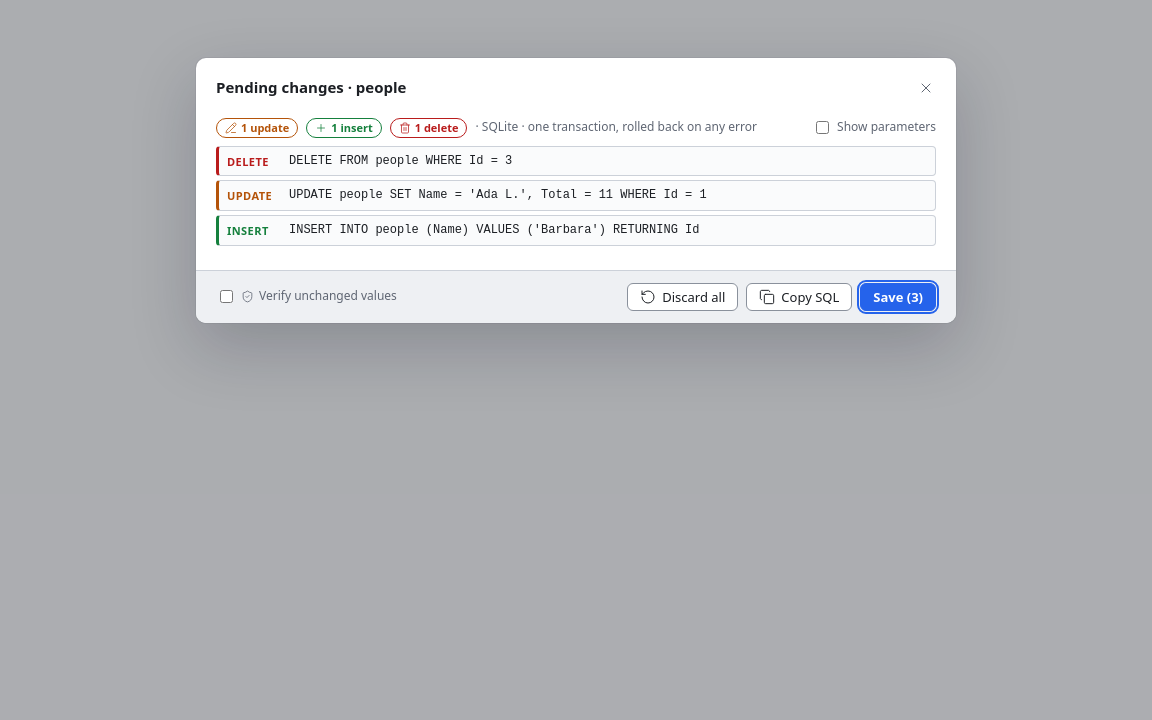
Test: pending changes: preview → submit in a transaction → refetch › shows the generated SQL per change with values as parameters
The image size is (1152, 720).
expect the text "DELETE FROM people WHERE Id = 3" is shown: met, box top-left (289, 154), bottom-right (512, 168)
expect the text "UPDATE people SET Name = 'Ada L.', Total = 11 WHERE Id = 1" is shown: met, box top-left (289, 188), bottom-right (707, 202)
Click the checkbox labelled "Show parameters". click: (823, 128)
box: top-left (816, 121), bottom-right (829, 134)
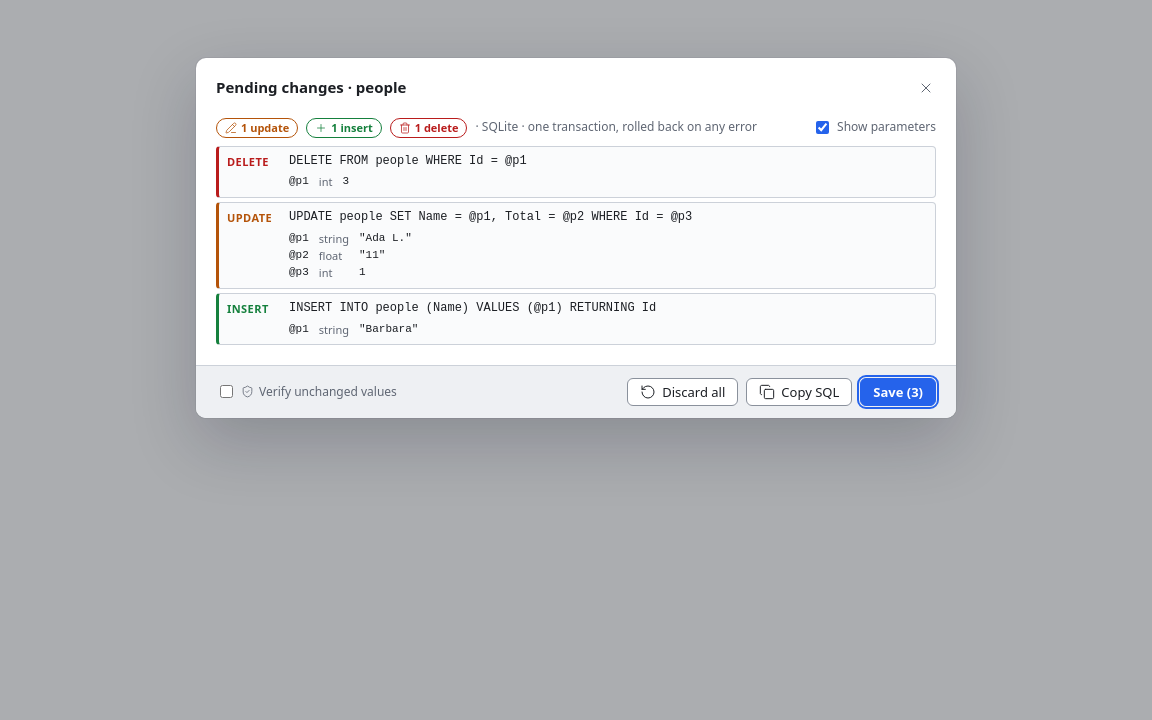
expect the button "Save (3)" is enabled: met, box top-left (860, 378), bottom-right (936, 406)
expect the text "UPDATE people SET Name = @p1, Total = @p2 WHERE Id = @p3" is shown: met, box top-left (289, 210), bottom-right (692, 224)
